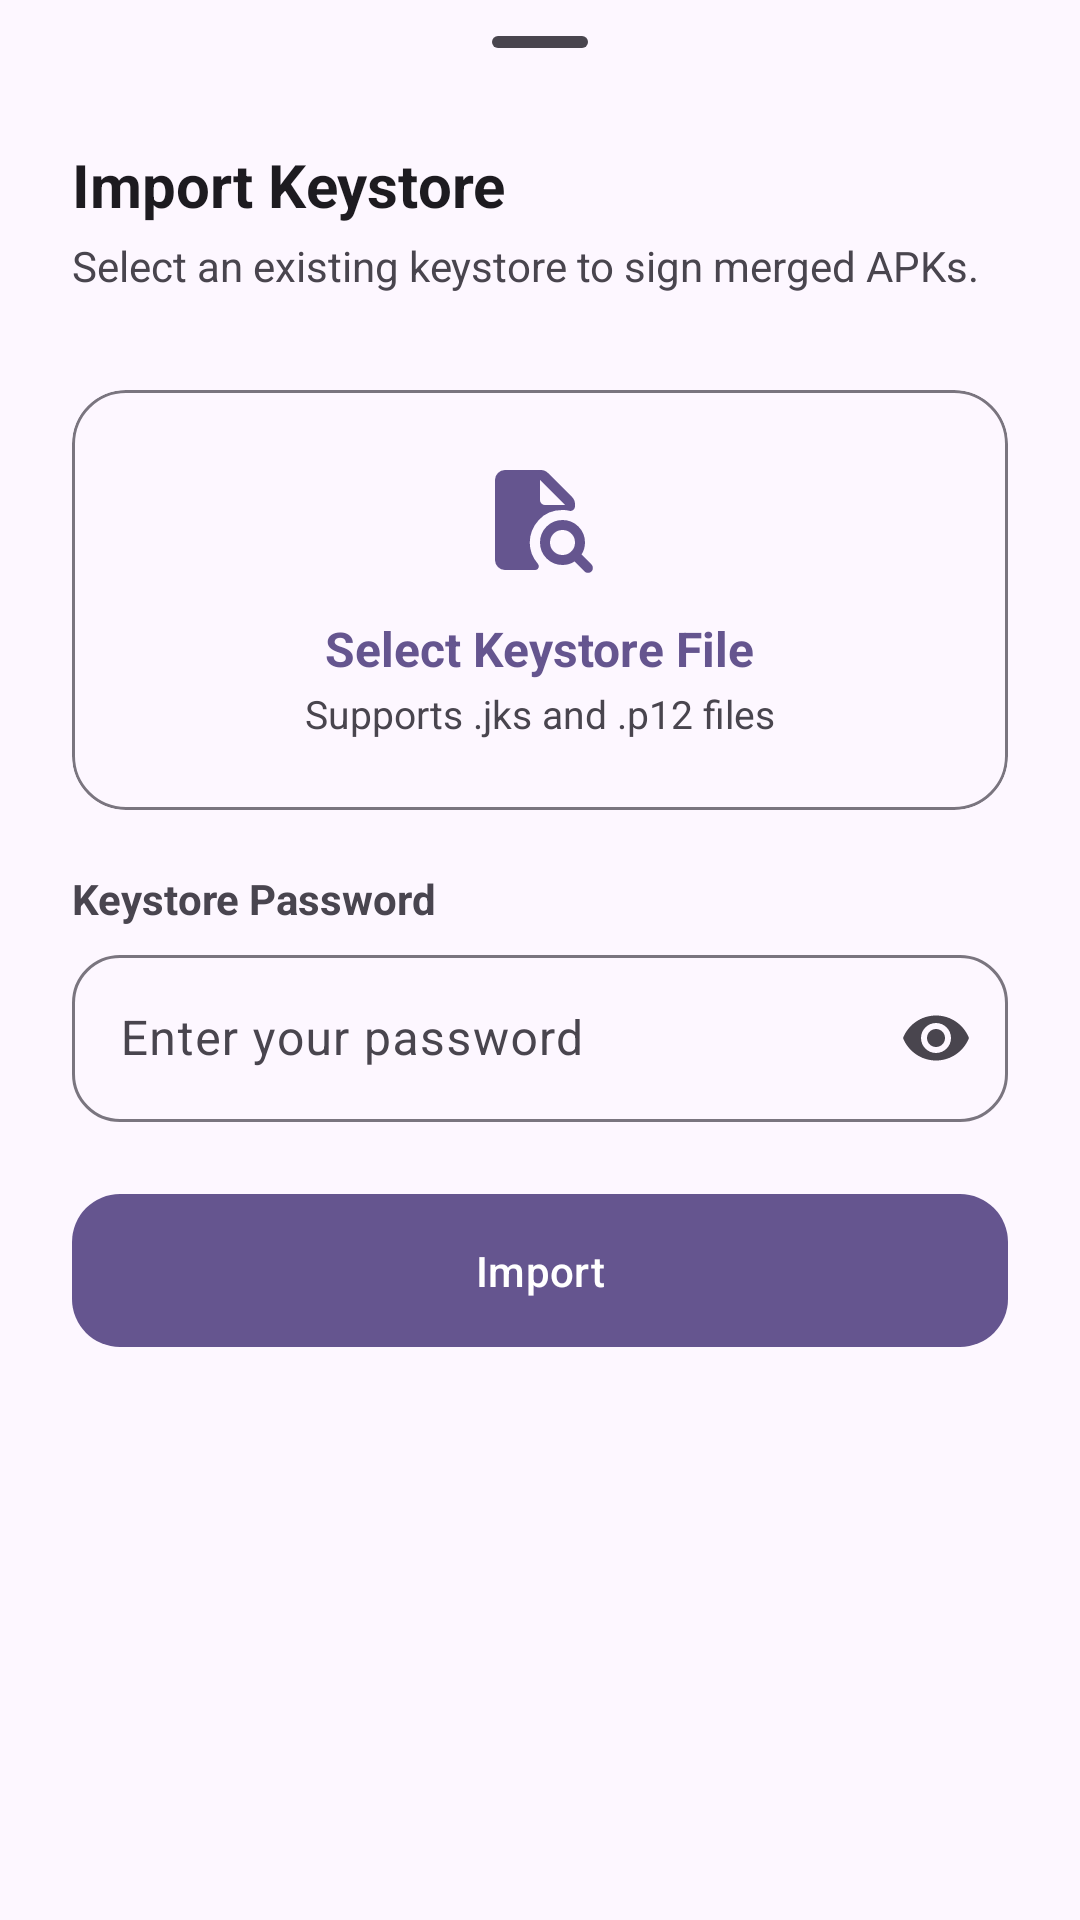

Point at icon controls on the screen. Image size 1080x1920, points as point (x, y).
file search: point (544, 521)
